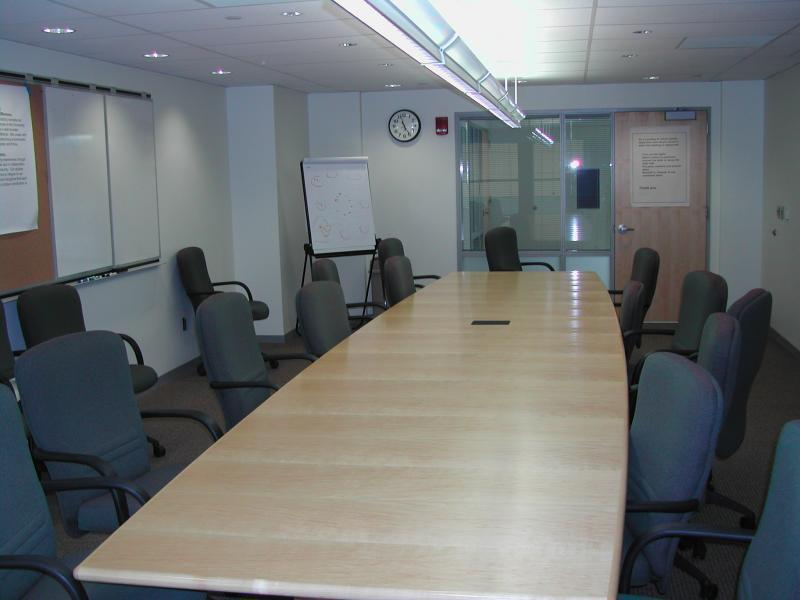Puerta: (618, 114, 707, 324)
